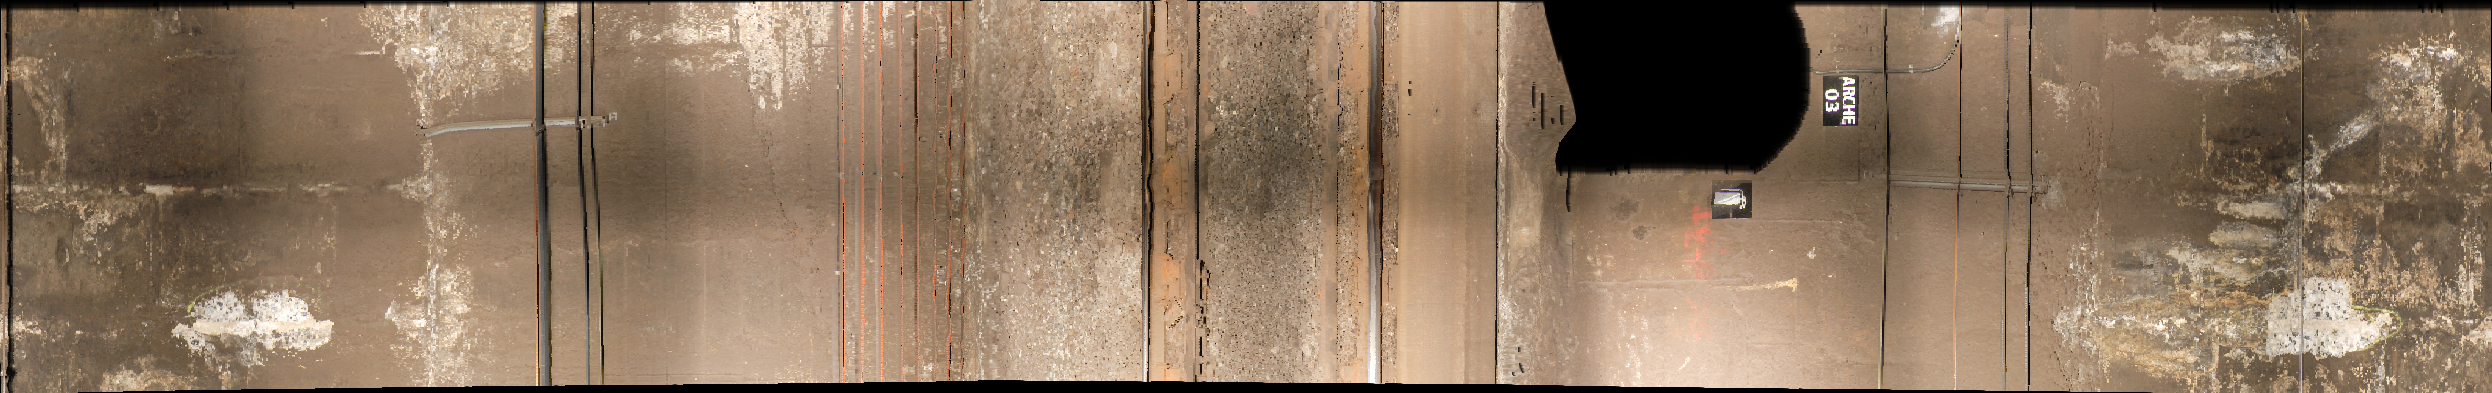pipes: (830, 2, 973, 393), (529, 5, 607, 393), (1999, 2, 2041, 393), (1948, 10, 1969, 393), (1880, 22, 1898, 393)
sign: (1828, 68, 1861, 127), (1712, 183, 1759, 220)
tracks: (1149, 6, 1503, 391)
